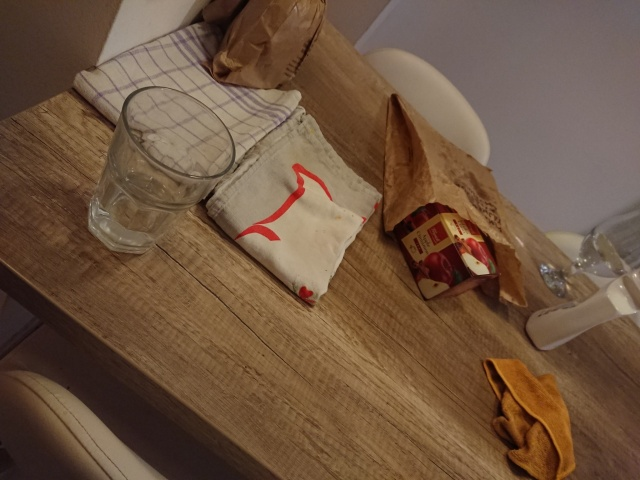Franck Apple Cinnamon Tea 60g: (383, 174, 505, 304)
